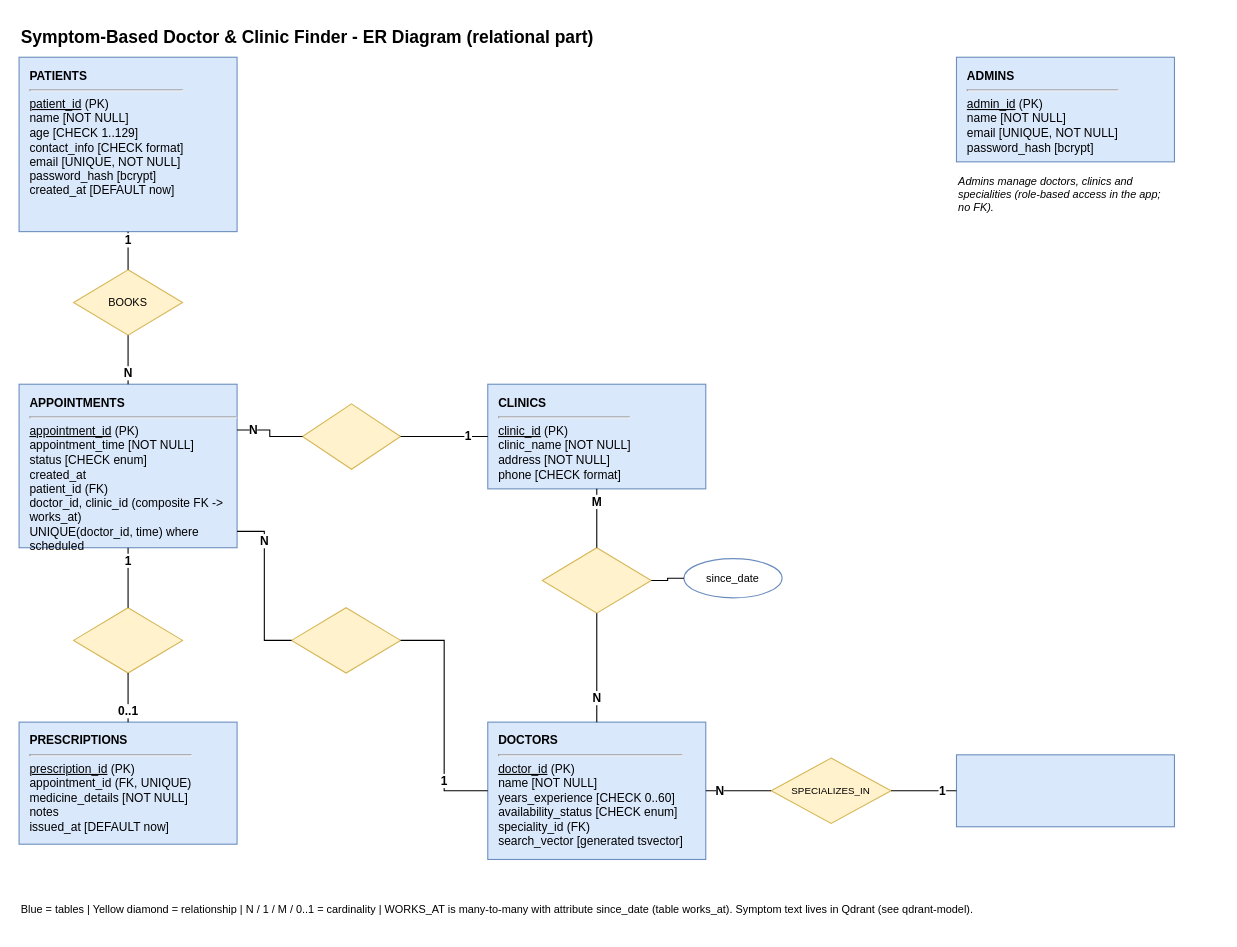
Image size: 1237x947. Some labels were removed from this diagram. Here are the shapes that lost their labels. From the top down, the box of each, then its label:
(301, 403, 401, 469): HELD_AT
(541, 547, 651, 613): WORKS_AT
(72, 607, 183, 673): GENERATES
(290, 607, 401, 673): ATTENDS
(955, 754, 1174, 827): SPECIALITIES speciality_id (PK) speciality_name [UNIQUE]
